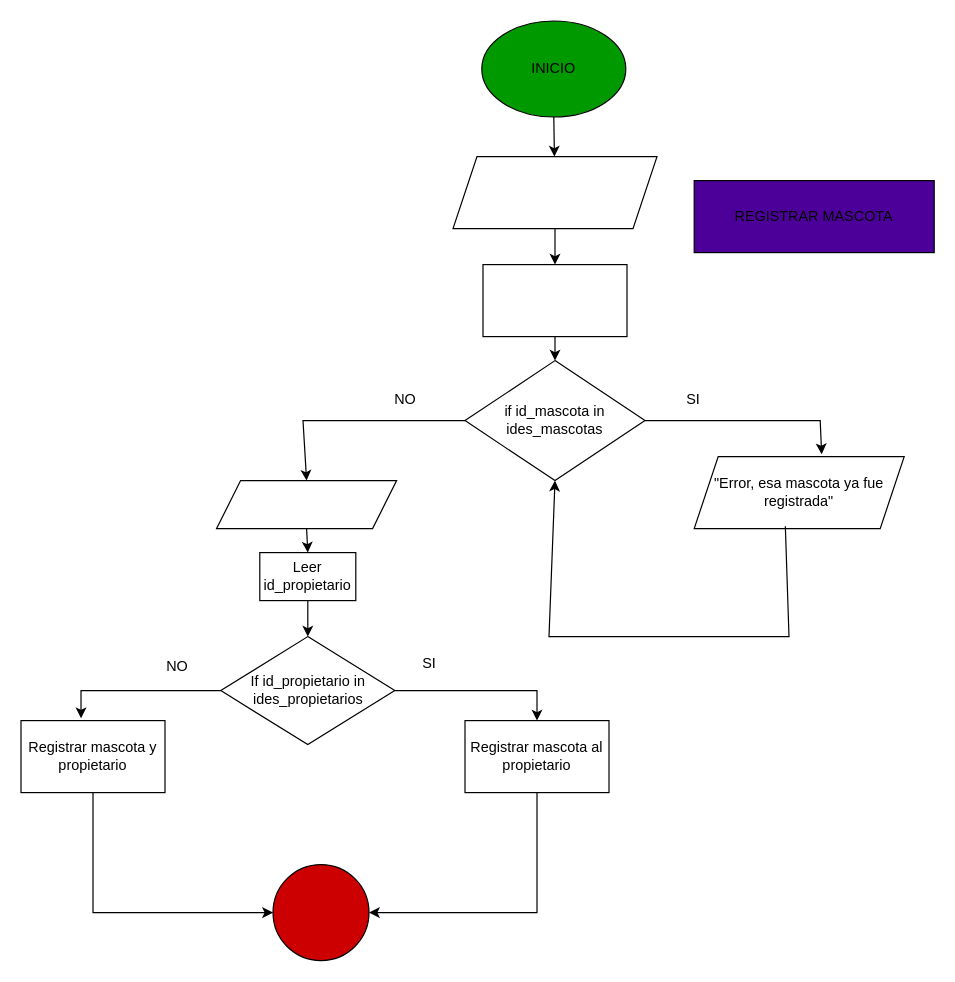
Some shapes in this 955 by 982 pixel diagram are drawn without their labels. The centre of each missing label's shape, as x and y in pixels:
"ingresa el id del propietario": point (306, 504)
FIN: point (320, 912)
leer id_mascota: point (554, 300)
Solicitar id mascota: point (554, 192)
